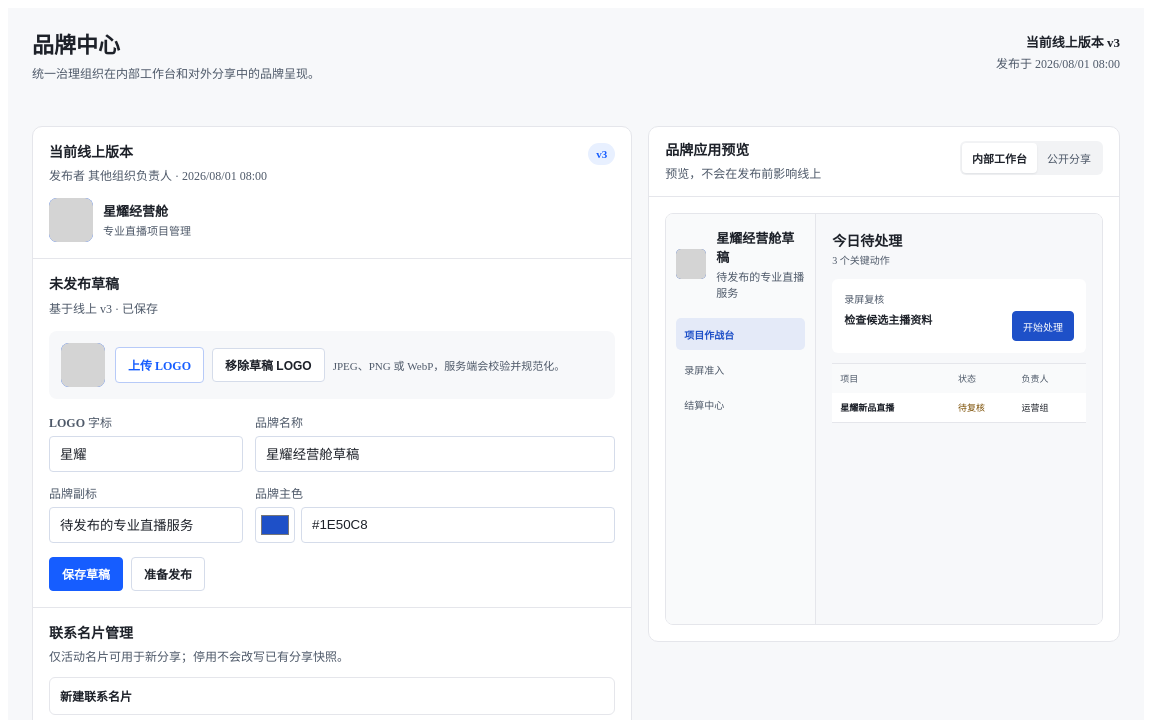
Test case: OrganizationBrandCenter › updates the online version but preserves defensive local edits made before a deferred publish returns
Click the button "准备发布" at (168, 574), box [131,557,205,591]
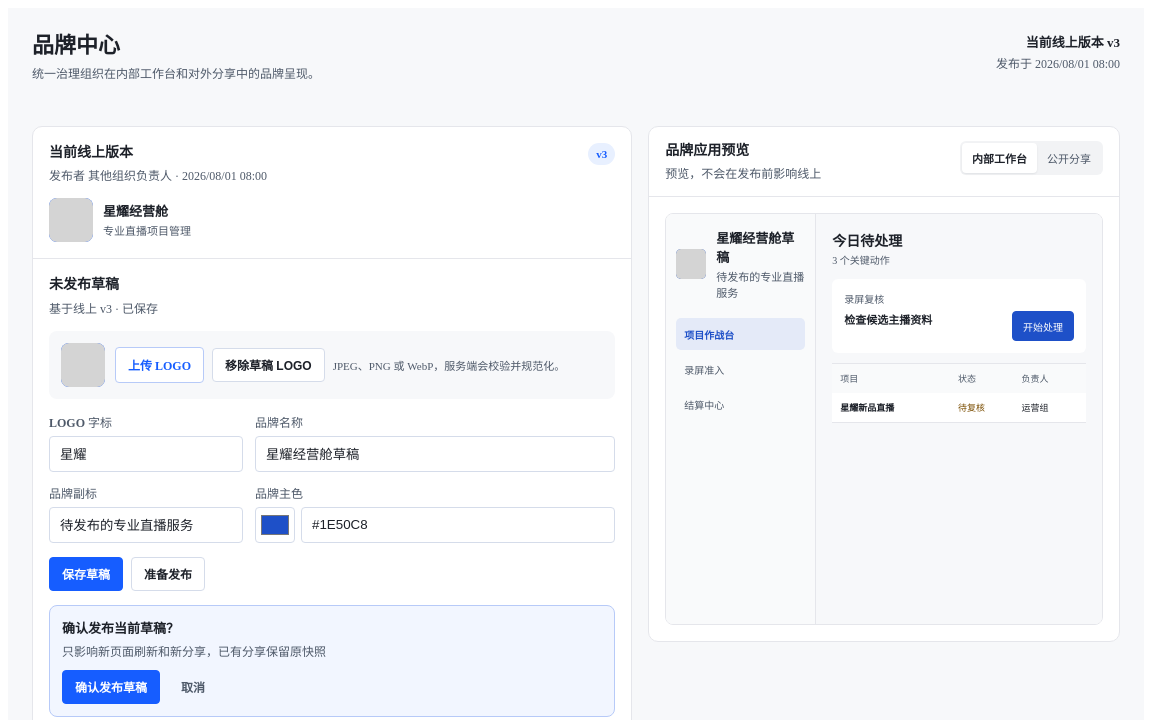
Click the button "确认发布草稿" at (111, 687), box [62,670,160,704]
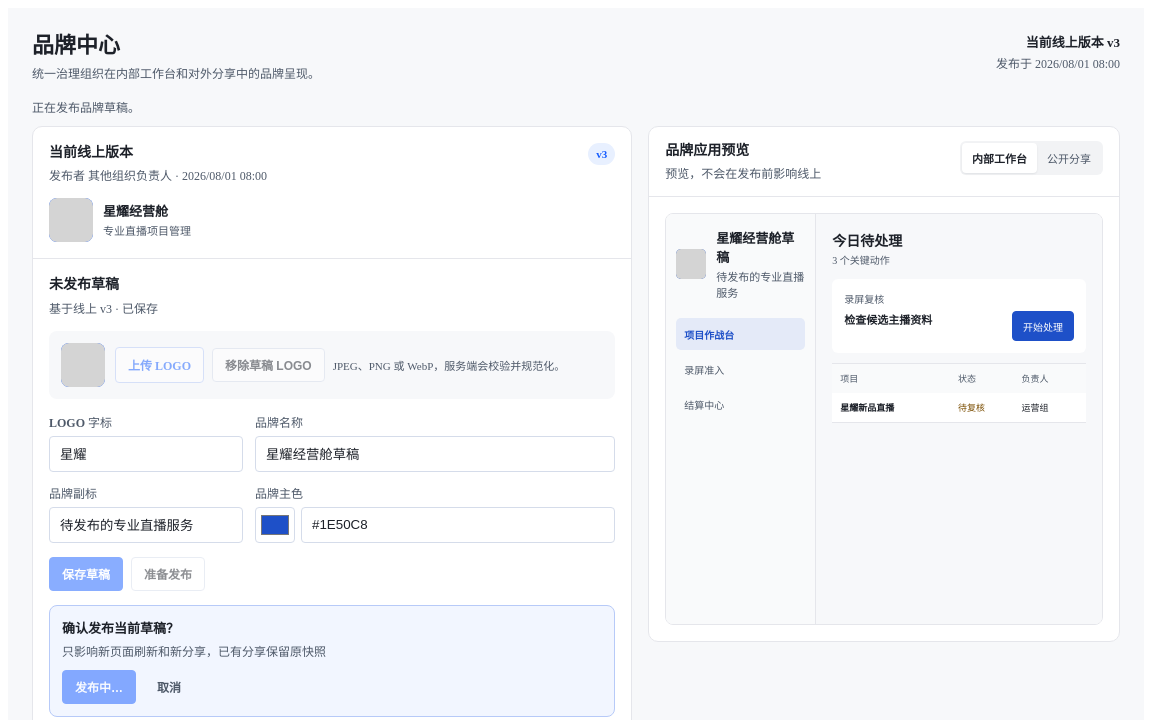
Replace the text in the field labelled "品牌副标" with "发布请求后的防御性修改" at (146, 525), box [49,507,243,543]
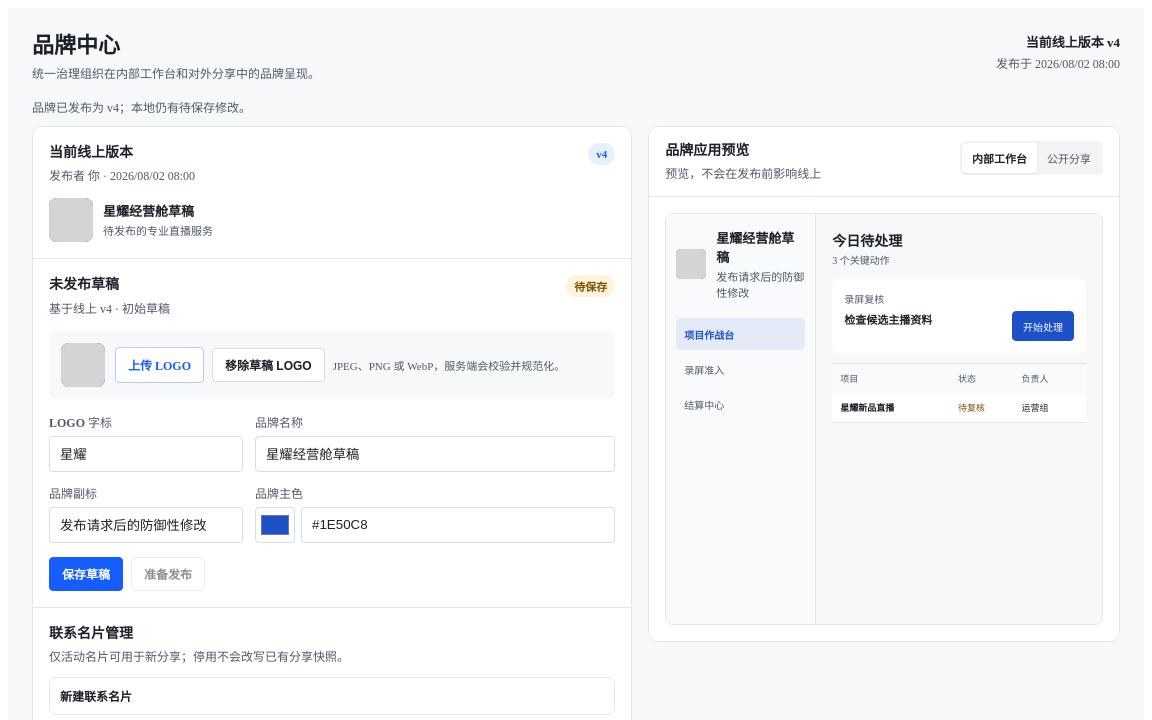
Expected: the message shows "品牌已发布为 v4；本地仍有待保存修改", [32,100,251,114]
Expected: the text "当前线上版本 v4" is shown, [1026,32,1120,51]
Expected: the text "基于线上 v4 · 初始草稿" is shown, [49,299,170,317]
